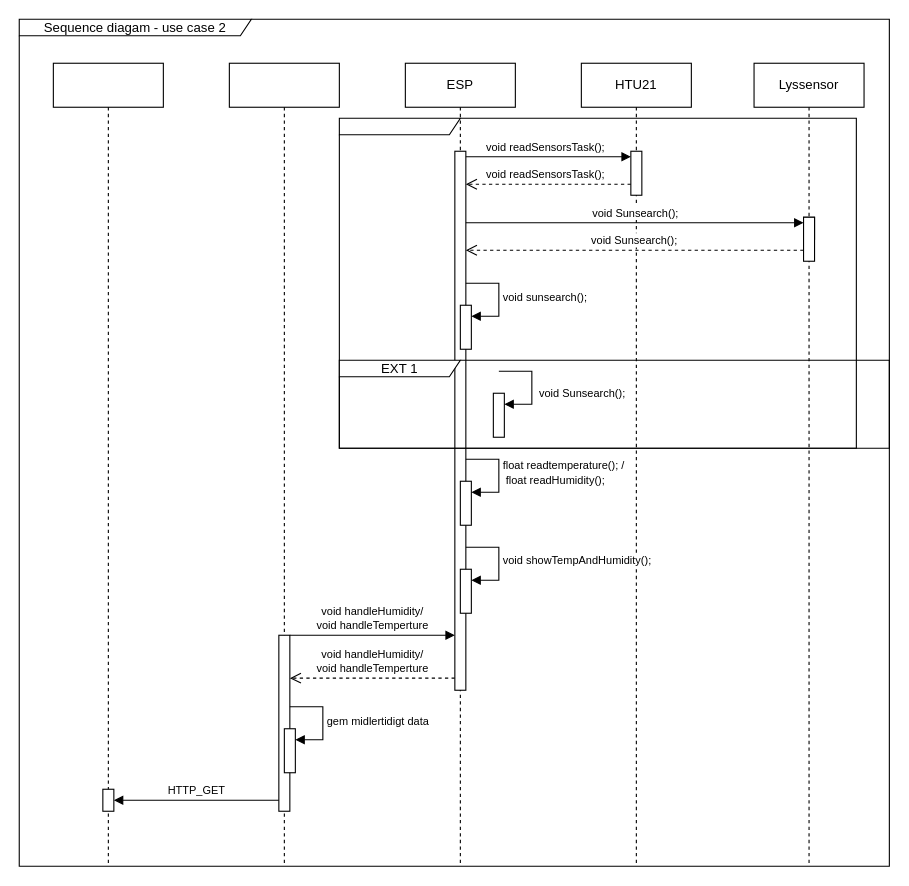
The diagram is 909 pixels wide and 886 high, and some of its shapes have lost their labels. Here are the shapes that lost their labels. From the top down, the box of each, then its label:
(338, 117, 856, 448): Loop
(52, 62, 163, 866): Webclient
(228, 62, 339, 866): HTTP-server
